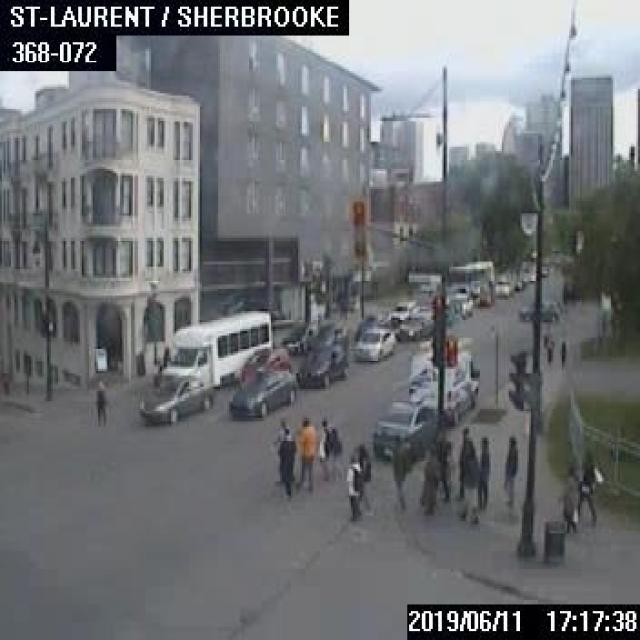bus: (163, 308, 271, 388), (446, 258, 494, 298)
pedestrian: (576, 451, 603, 526), (457, 444, 478, 524), (558, 462, 580, 533), (318, 416, 341, 479), (350, 442, 370, 512), (418, 440, 436, 515), (390, 432, 406, 510), (297, 417, 314, 490), (278, 428, 296, 496), (458, 425, 474, 498), (346, 457, 364, 520), (274, 418, 292, 478), (437, 429, 452, 497), (502, 434, 514, 508), (91, 373, 105, 427), (542, 333, 553, 365), (558, 337, 565, 373)
vehicle: (405, 335, 478, 423), (372, 397, 436, 459), (137, 374, 210, 422), (227, 369, 293, 416), (295, 344, 347, 386), (353, 328, 393, 358), (241, 345, 288, 370), (392, 314, 433, 339), (281, 321, 314, 352), (476, 435, 489, 506), (309, 322, 346, 344), (356, 313, 389, 335), (520, 300, 556, 320), (387, 299, 414, 324), (448, 290, 470, 316), (493, 275, 512, 296)
